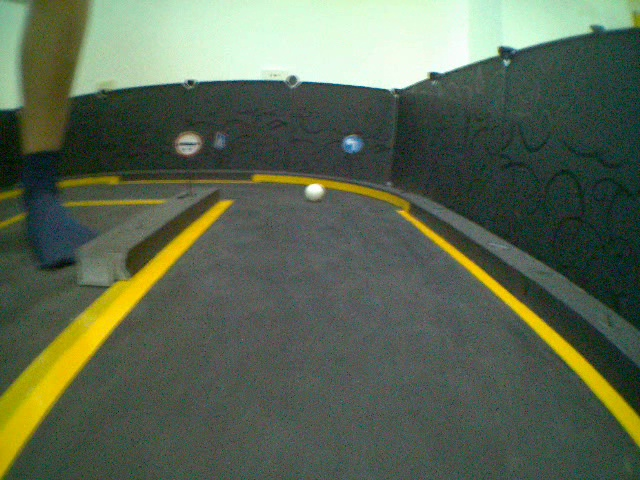ball: (305, 182, 324, 202)
